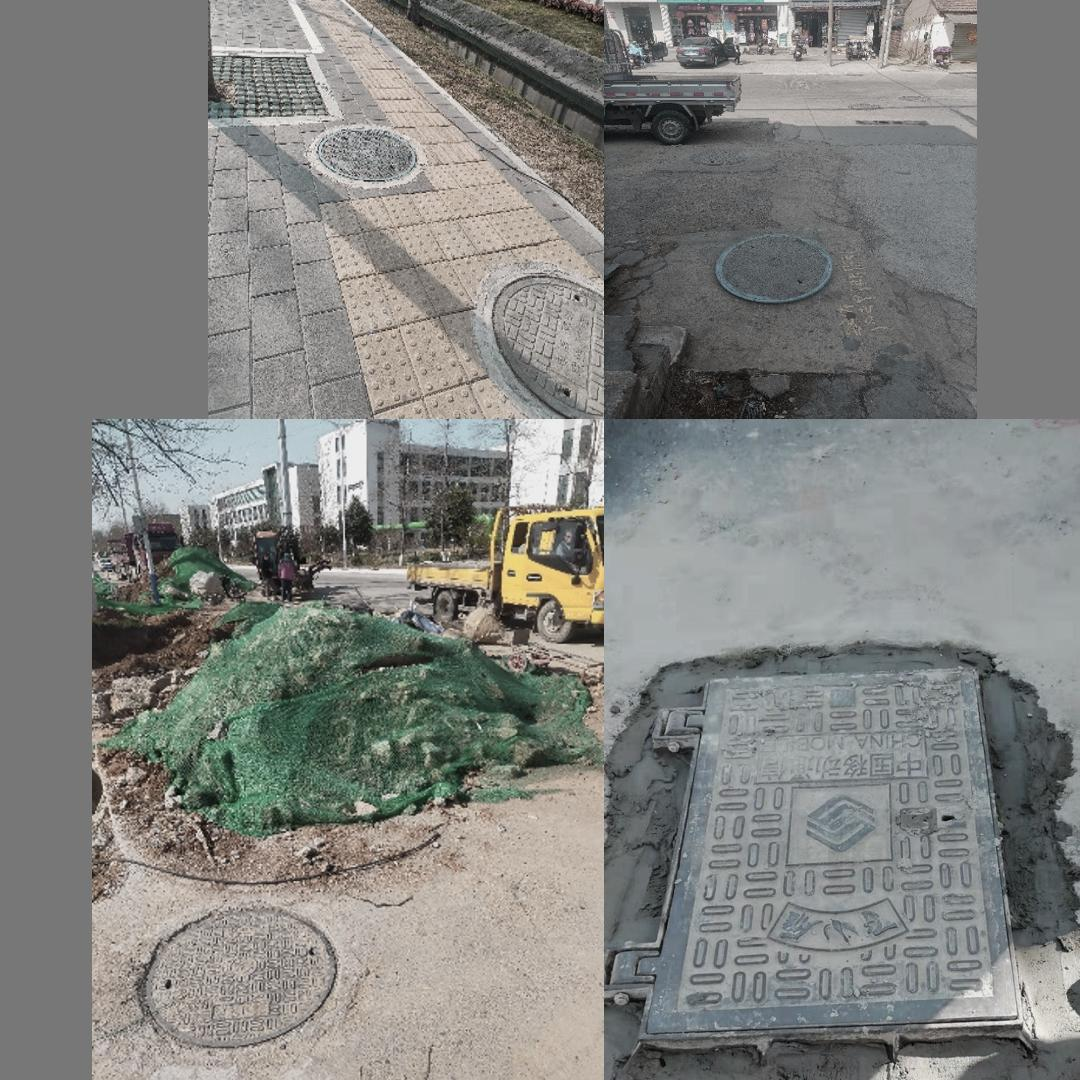good: (604, 667, 1029, 1049), (140, 906, 335, 1048), (482, 266, 604, 419), (714, 233, 832, 302), (309, 123, 426, 185)
